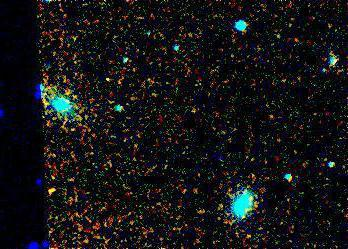star: (38, 176, 68, 206)
